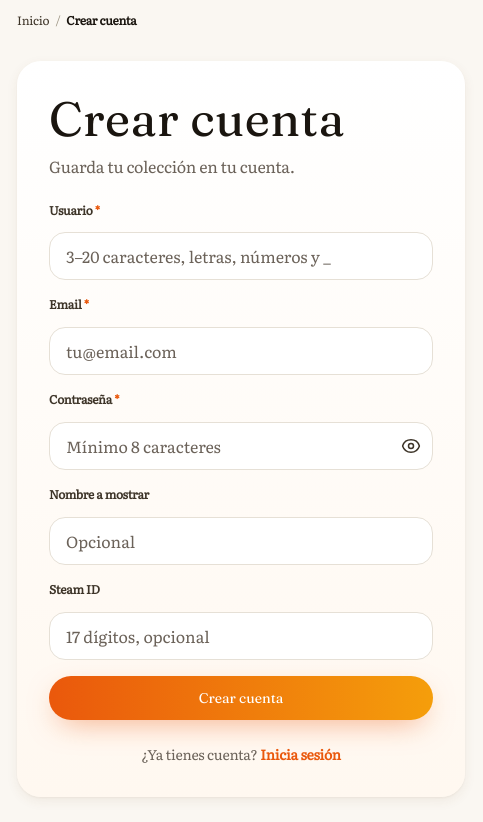
Test: RegisterPage › enfoca el primer campo inválido al enviar
Click the button "Crear cuenta". click: point(241, 698)
box: [49,676,433,720]
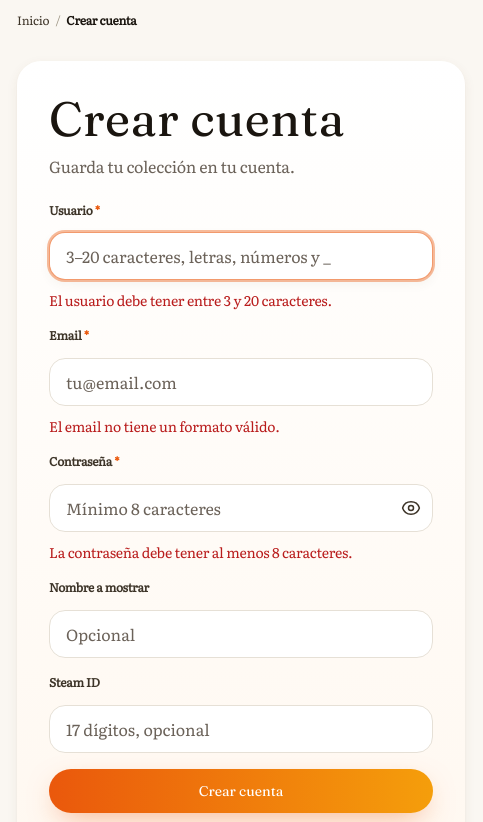
Now the text "El usuario debe tener entre 3 y 20 caracteres." is shown, box [49,290,332,310]
